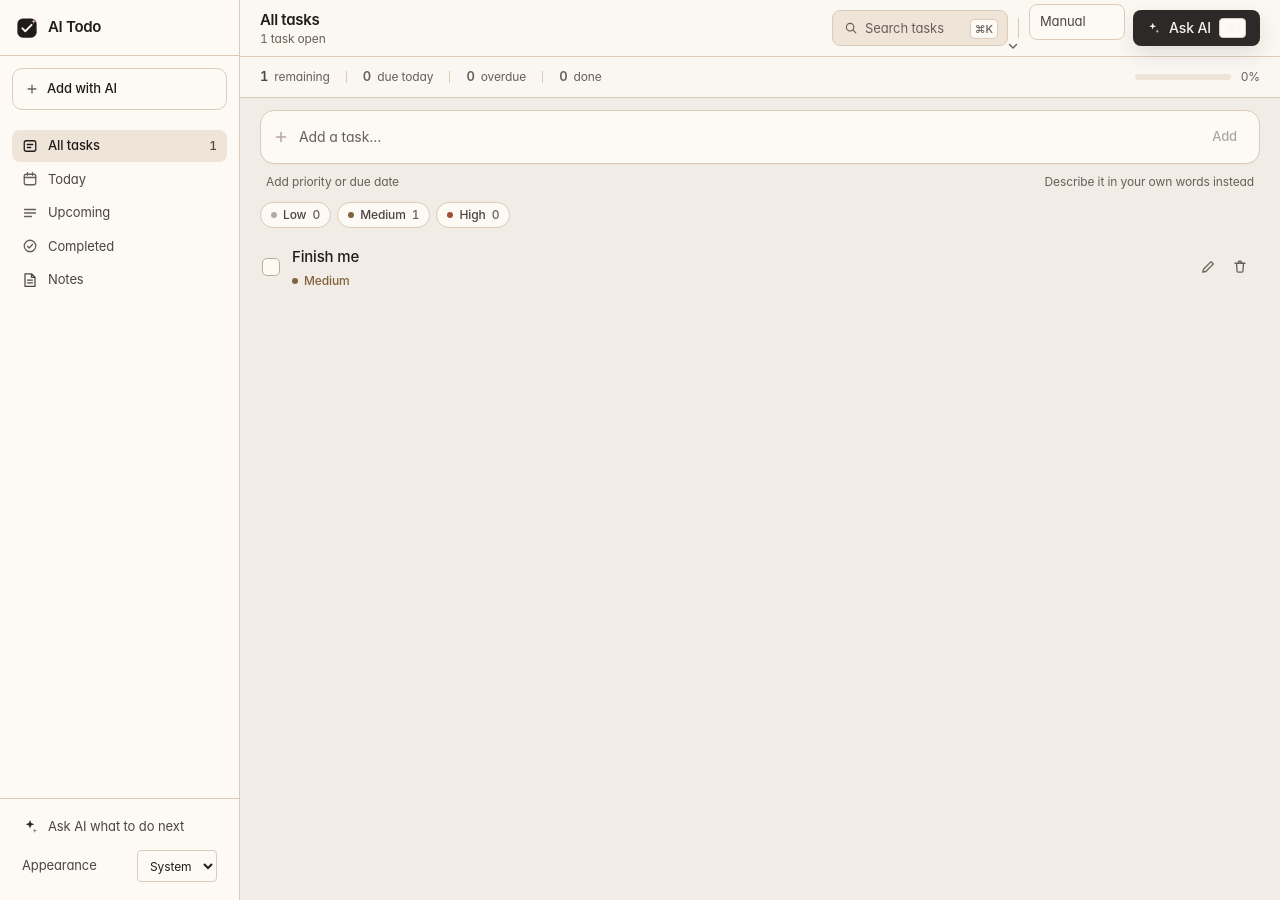
complete a task › marks a task done and moves it out of the active list
Click the checkbox named "finish me". click: (271, 267)
box: [262, 258, 280, 276]
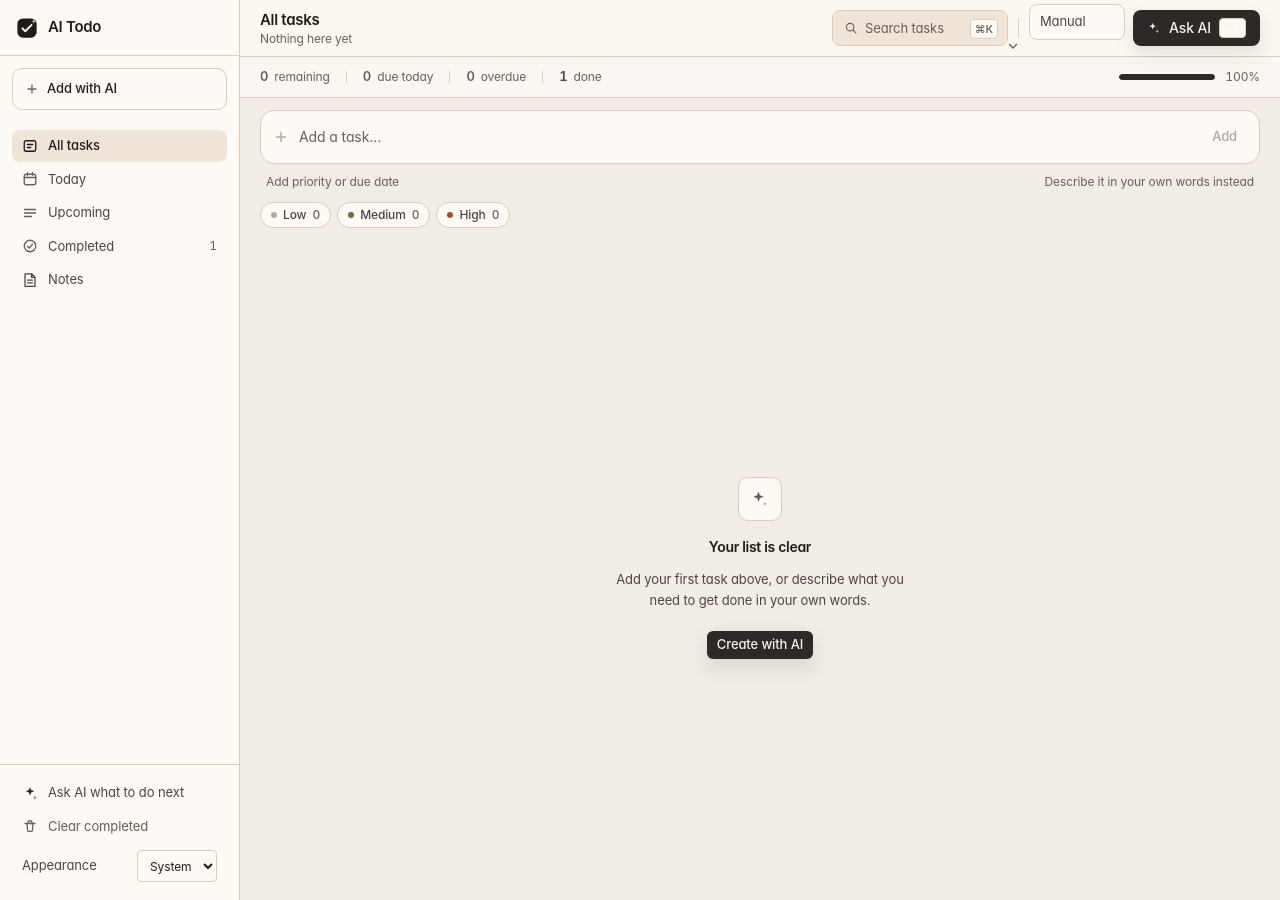
Now the button "Finish me" is gone
